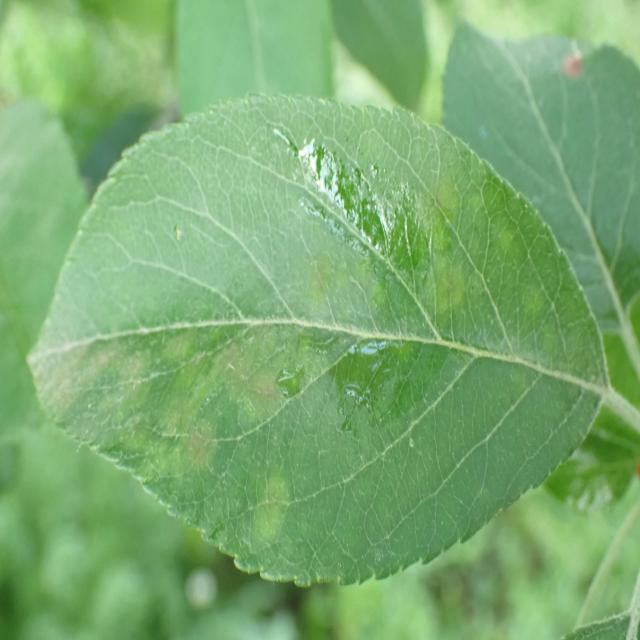scab: (18, 189, 574, 548)
